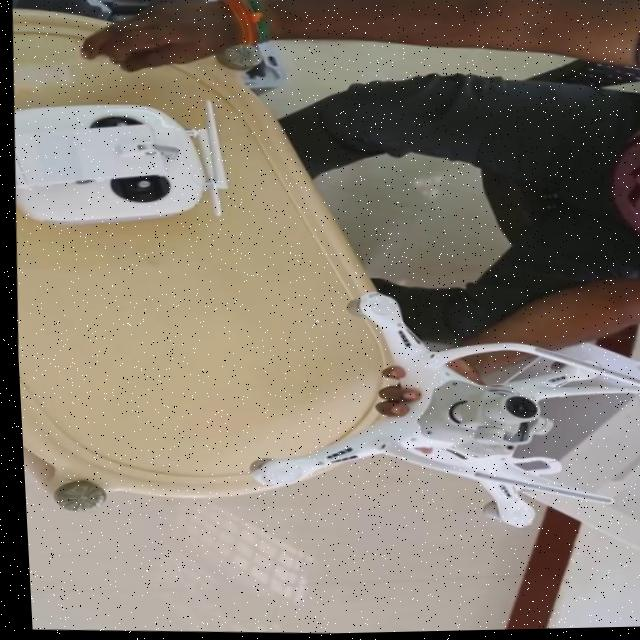drones: (187, 269, 640, 553)
